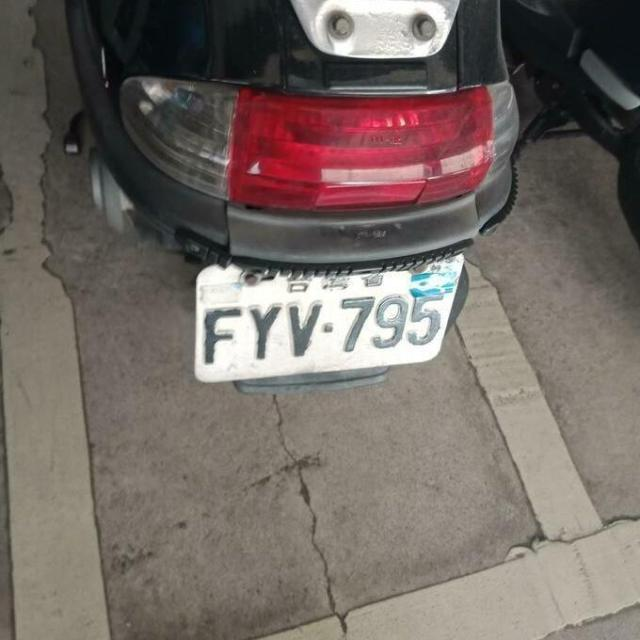W: (174, 224, 470, 406)
